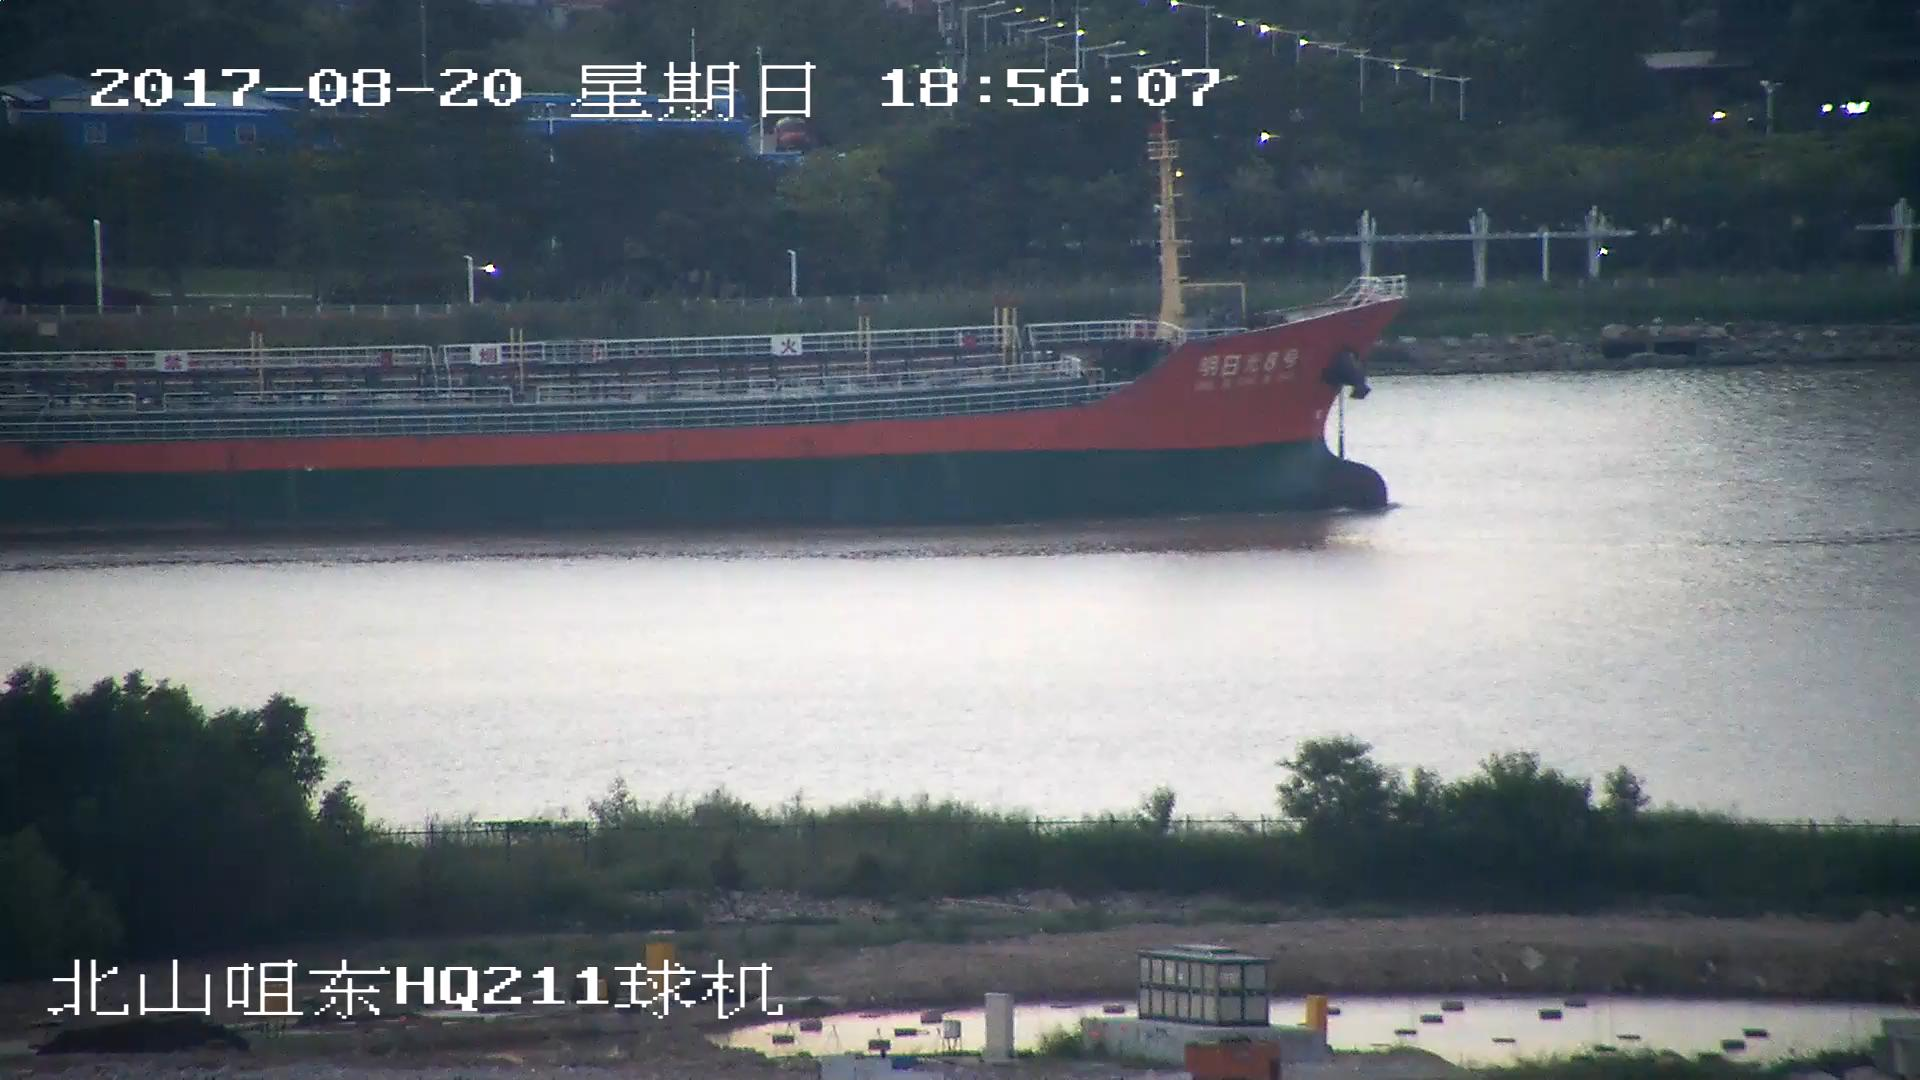general cargo ship: (1, 128, 1411, 522)
